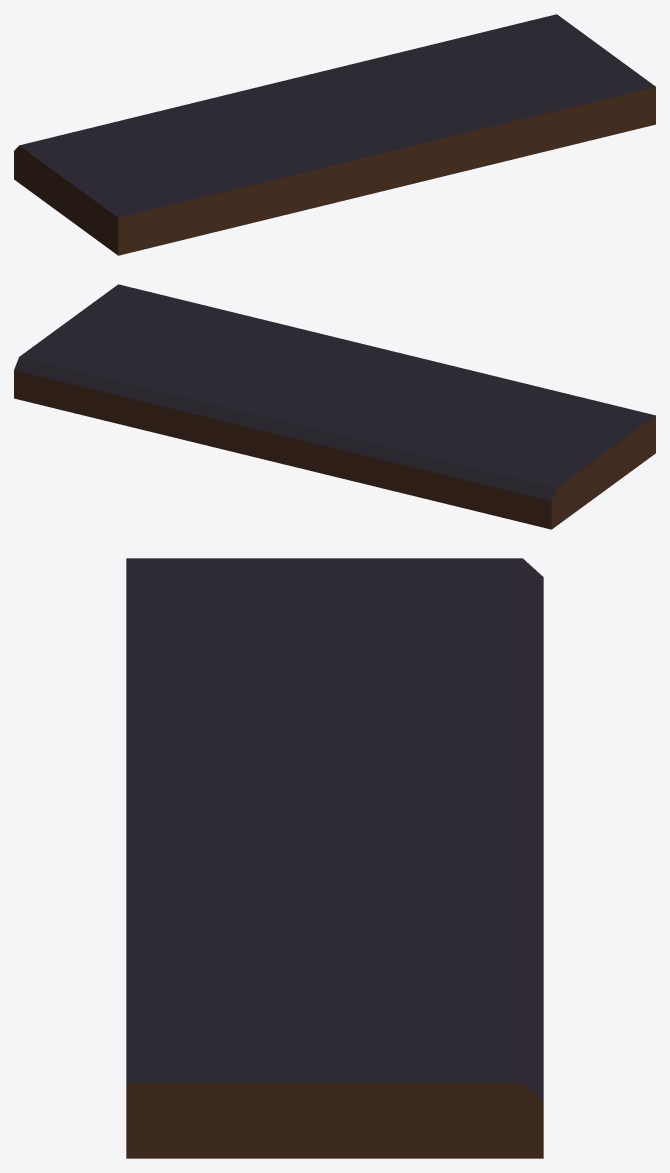
Rendered from Pusher.obj.
The picture shows the model from 3 angles, top to bottom: view 1: azimuth 30°, elevation 25°; view 2: azimuth 150°, elevation 25°; view 3: azimuth 270°, elevation 25°; orthographic projection. The views are drawn at different scales.
Parts seen in each view (by area): view 1: Pusher; view 2: Pusher; view 3: Pusher.
Part boxes in pixels (x1,y1,x2,y2): Pusher: [14, 14, 655, 255]; Pusher: [14, 284, 655, 529]; Pusher: [126, 558, 543, 1158].
Size of the model in its own units: 0.476 by 0.032 by 0.16.
